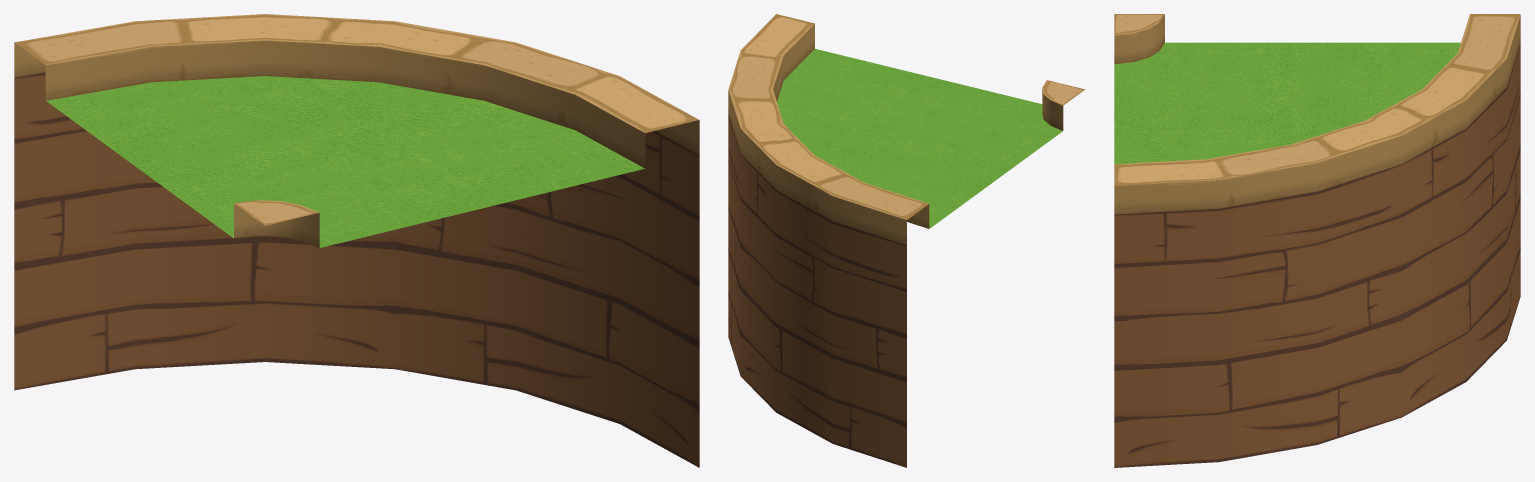
Rendered from tile06.FBX.
3 renders of one model, left to right at view 1: azimuth 30°, elevation 25°; view 2: azimuth 150°, elevation 25°; view 3: azimuth 270°, elevation 25°, orthographic. The views are drawn at different scales.
Visible parts, largest first — view 1: tile06_walls, tile06_floor; view 2: tile06_walls, tile06_floor; view 3: tile06_walls, tile06_floor.
Part boxes in pixels (x1=…): tile06_walls: x1=14, y1=14, x2=699, y2=467; tile06_floor: x1=46, y1=76, x2=644, y2=247; tile06_walls: x1=728, y1=14, x2=1085, y2=467; tile06_floor: x1=777, y1=49, x2=1062, y2=228; tile06_walls: x1=1114, y1=14, x2=1520, y2=467; tile06_floor: x1=1114, y1=42, x2=1460, y2=164.
Size of the model in its own units: 1280 by 980 by 1280.
